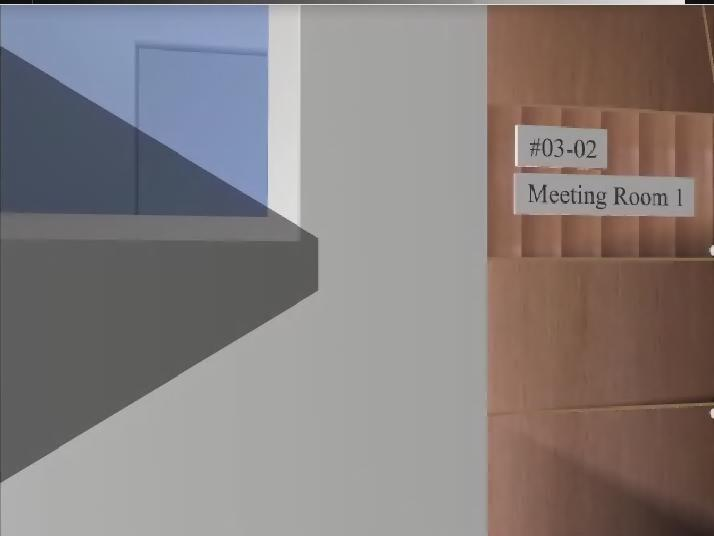door: (487, 6, 714, 536)
